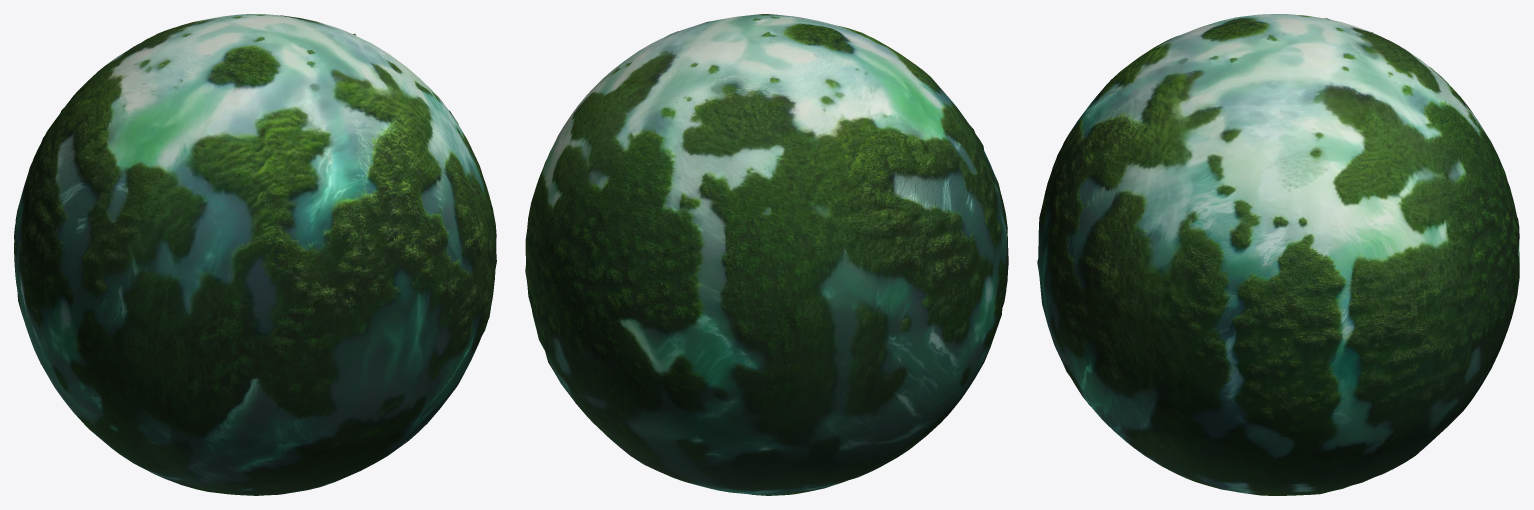
File: jungle_planet_6.glb
3 renders of one model, left to right at view 1: azimuth 30°, elevation 25°; view 2: azimuth 150°, elevation 25°; view 3: azimuth 270°, elevation 25°, orthographic.
Parts seen in each view (by area): view 1: Mesh_0.037; view 2: Mesh_0.037; view 3: Mesh_0.037.
Part boxes in pixels (<box>): Mesh_0.037: <box>14,14,496,495</box>; Mesh_0.037: <box>525,14,1008,495</box>; Mesh_0.037: <box>1037,14,1519,495</box>.
Bounding box in the file's own units: 1.99 × 1.99 × 1.98.
1 material, 1 textured.
